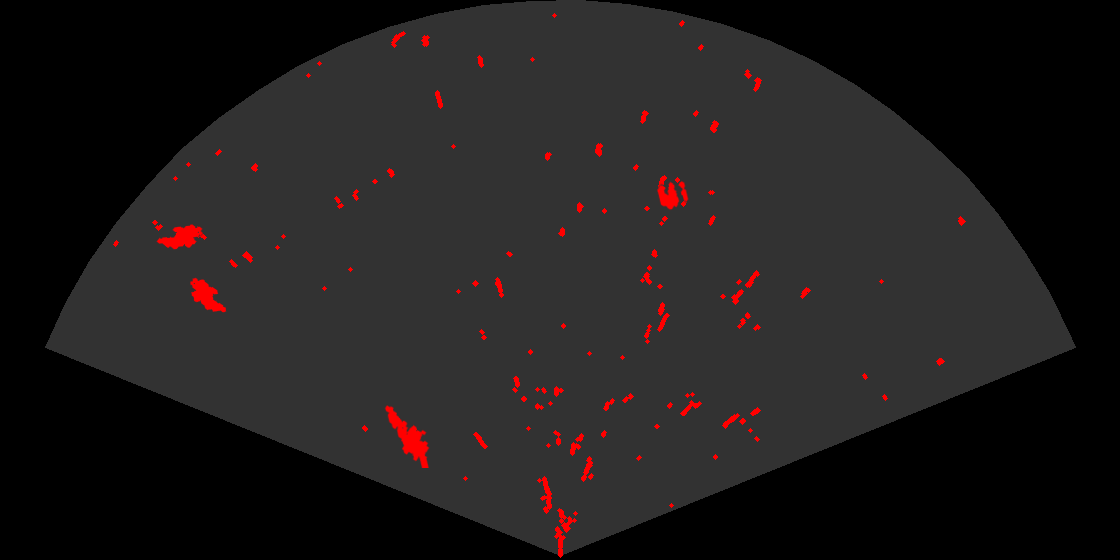AUV: (189, 276, 228, 314), (155, 223, 204, 251)
ball: (655, 179, 690, 212)
frogman: (383, 404, 431, 468)
